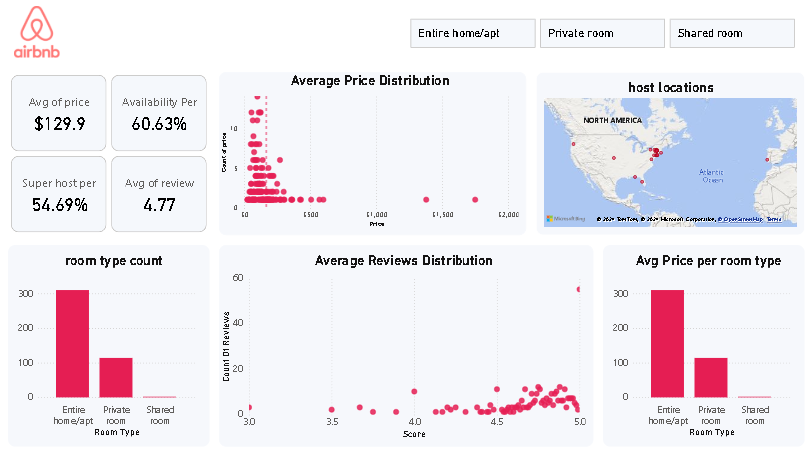

Layout of this report page (visuals, bound fields, positions):
{"tool":"powerbi","page":{"name":"Dashboard","canvas":[1360,768],"ordinal":1},"visuals":[{"type":"columnChart","title":"Avg Price per room type","fields":{"Category":["listings.room_type"],"Y":["CountNonNull(listings.room_type)"]},"box":[1008,416,336,336],"z":0},{"type":"map","title":"host locations","fields":{"X":["Sum(listings.longitude)"],"Category":["listings.host_location"]},"box":[896,128,448,272],"z":1000},{"type":"scatterChart","title":"Average Price Distribution ","fields":{"Category":["listings.price"],"X":["Avg(listings.price)"],"Y":["CountNonNull(listings.price)"]},"box":[368,128,512,272],"z":2000},{"type":"image","box":[16,12.8,96,96],"z":3000},{"type":"columnChart","title":"room type count","fields":{"Category":["listings.room_type"],"Y":["CountNonNull(listings.room_type)"]},"box":[16,416,336,336],"z":4000},{"type":"scatterChart","title":"Average Reviews Distribution ","fields":{"X":["Avg(listings.review_scores_value)"],"Y":["CountNonNull(listings.review_scores_value)"],"Category":["listings.review_scores_value"]},"box":[368,416,624,336],"z":5000},{"type":"advancedSlicerVisual","title":"Room Type","fields":{"Values":["listings.room_type"]},"box":[672,32,672,64],"z":6000},{"type":"cardVisual","fields":{"Data":["Avg(listings.price)","Measures (2).availability Per","Measures (2).super host per","Avg(listings.review_scores_rating)"]},"box":[16,128,336,272],"z":7000}]}

Visuals, with their boxes in screenshot pixels (x1, y1, x2, y2), scaled from the page's 1360x768 canvas onto the 812x452 screenshot:
"Avg Price per room type" columnChart: <region>602, 245, 802, 443</region>
"host locations" map: <region>535, 75, 802, 235</region>
"Average Price Distribution " scatterChart: <region>220, 75, 525, 235</region>
image: <region>10, 8, 67, 64</region>
"room type count" columnChart: <region>10, 245, 210, 443</region>
"Average Reviews Distribution " scatterChart: <region>220, 245, 592, 443</region>
"Room Type" advancedSlicerVisual: <region>401, 19, 802, 56</region>
cardVisual - Avg(listings.price) x Measures (2).availability Per: <region>10, 75, 210, 235</region>
